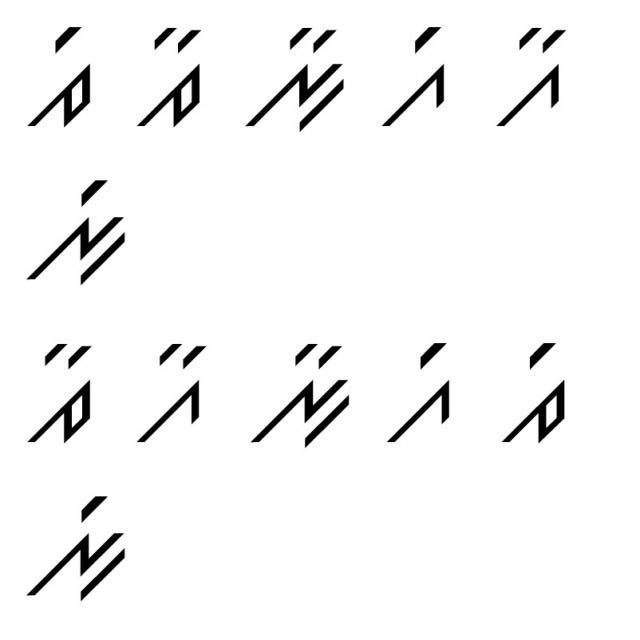gan: (496, 22, 574, 130), (136, 334, 210, 446)
gang: (380, 335, 456, 449), (380, 23, 452, 131)
ngan: (246, 333, 353, 457), (244, 18, 354, 134)
ngang: (17, 173, 130, 289), (25, 492, 131, 610)
tan: (132, 16, 217, 136), (22, 338, 96, 446)
tang: (496, 333, 573, 450), (18, 18, 94, 130)
